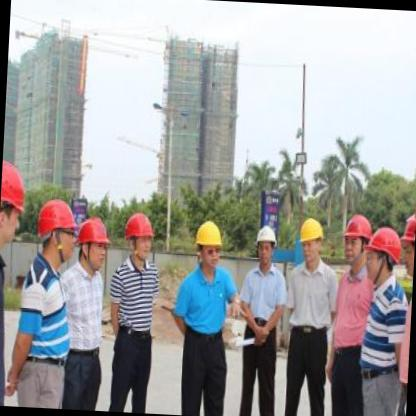helmet: (37, 198, 80, 269), (1, 162, 31, 252), (366, 229, 400, 290), (193, 218, 227, 275), (78, 215, 112, 272), (121, 212, 158, 263), (294, 215, 328, 266), (341, 211, 371, 267), (253, 216, 281, 268), (399, 212, 416, 286)
